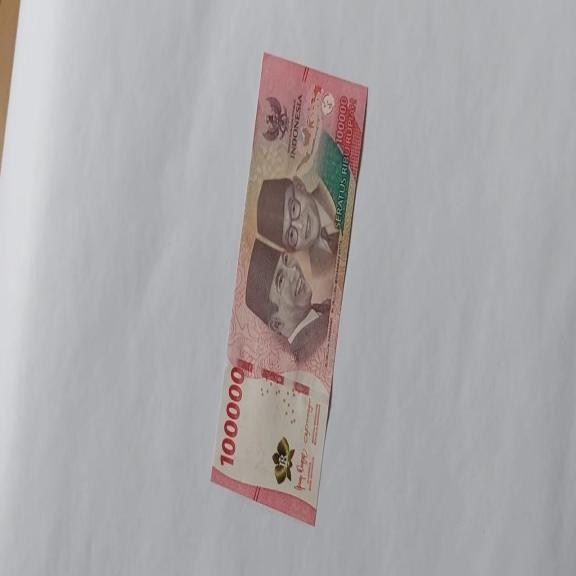Kertas: (209, 51, 369, 526), (220, 364, 244, 467)
